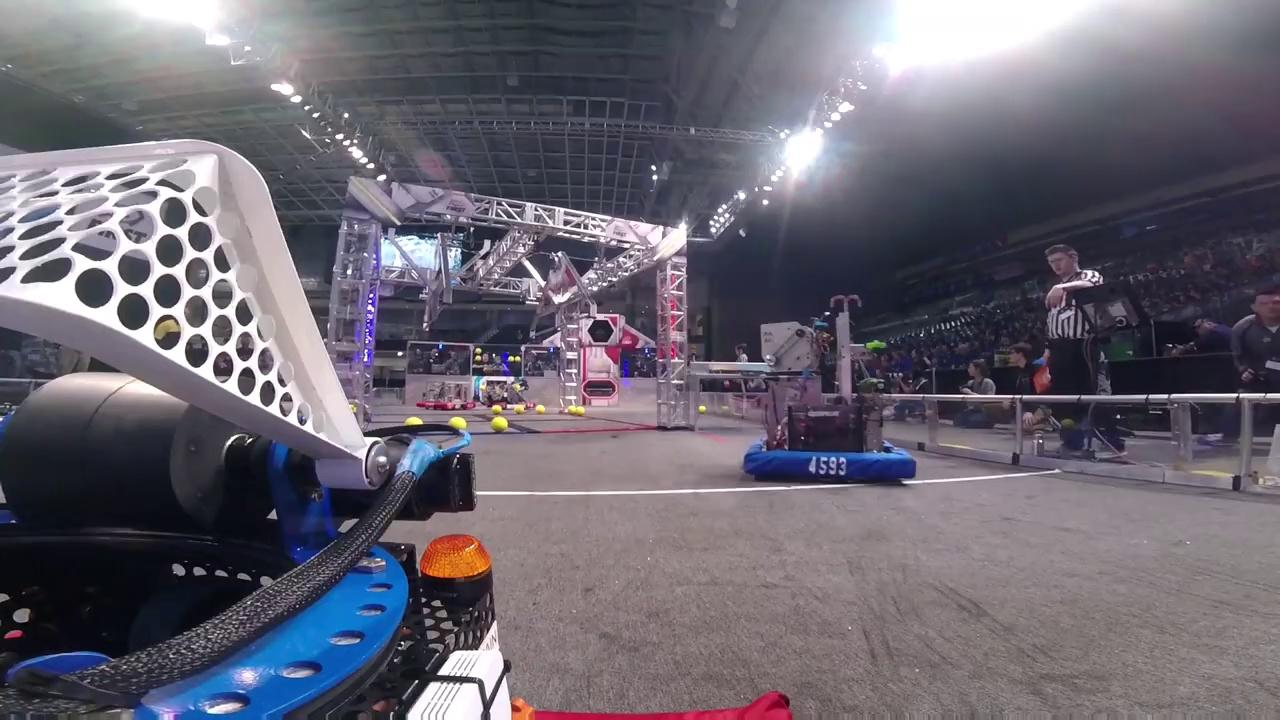robot: (741, 294, 919, 485), (415, 378, 473, 412)
